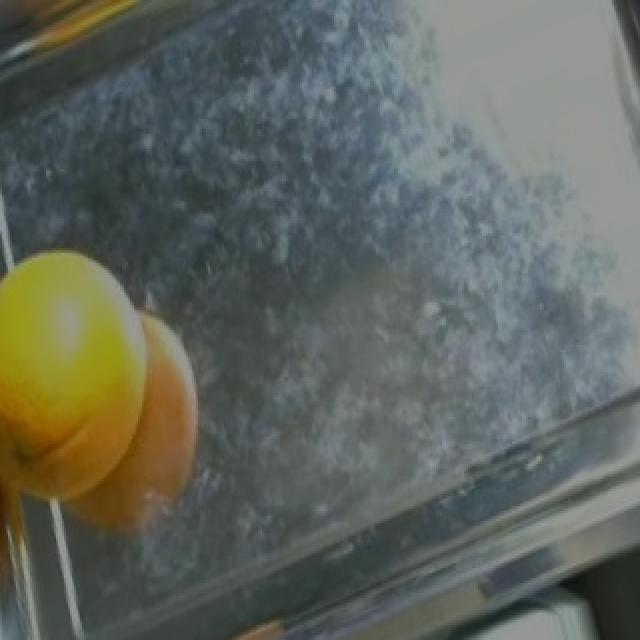Fruit: (2, 223, 166, 556), (0, 0, 184, 72)
